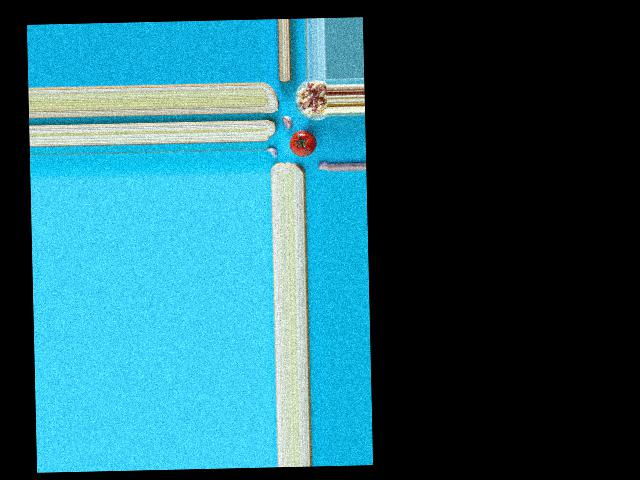tomato: (289, 131, 317, 157)
